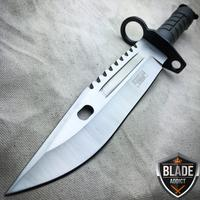knife: (3, 15, 188, 198)
